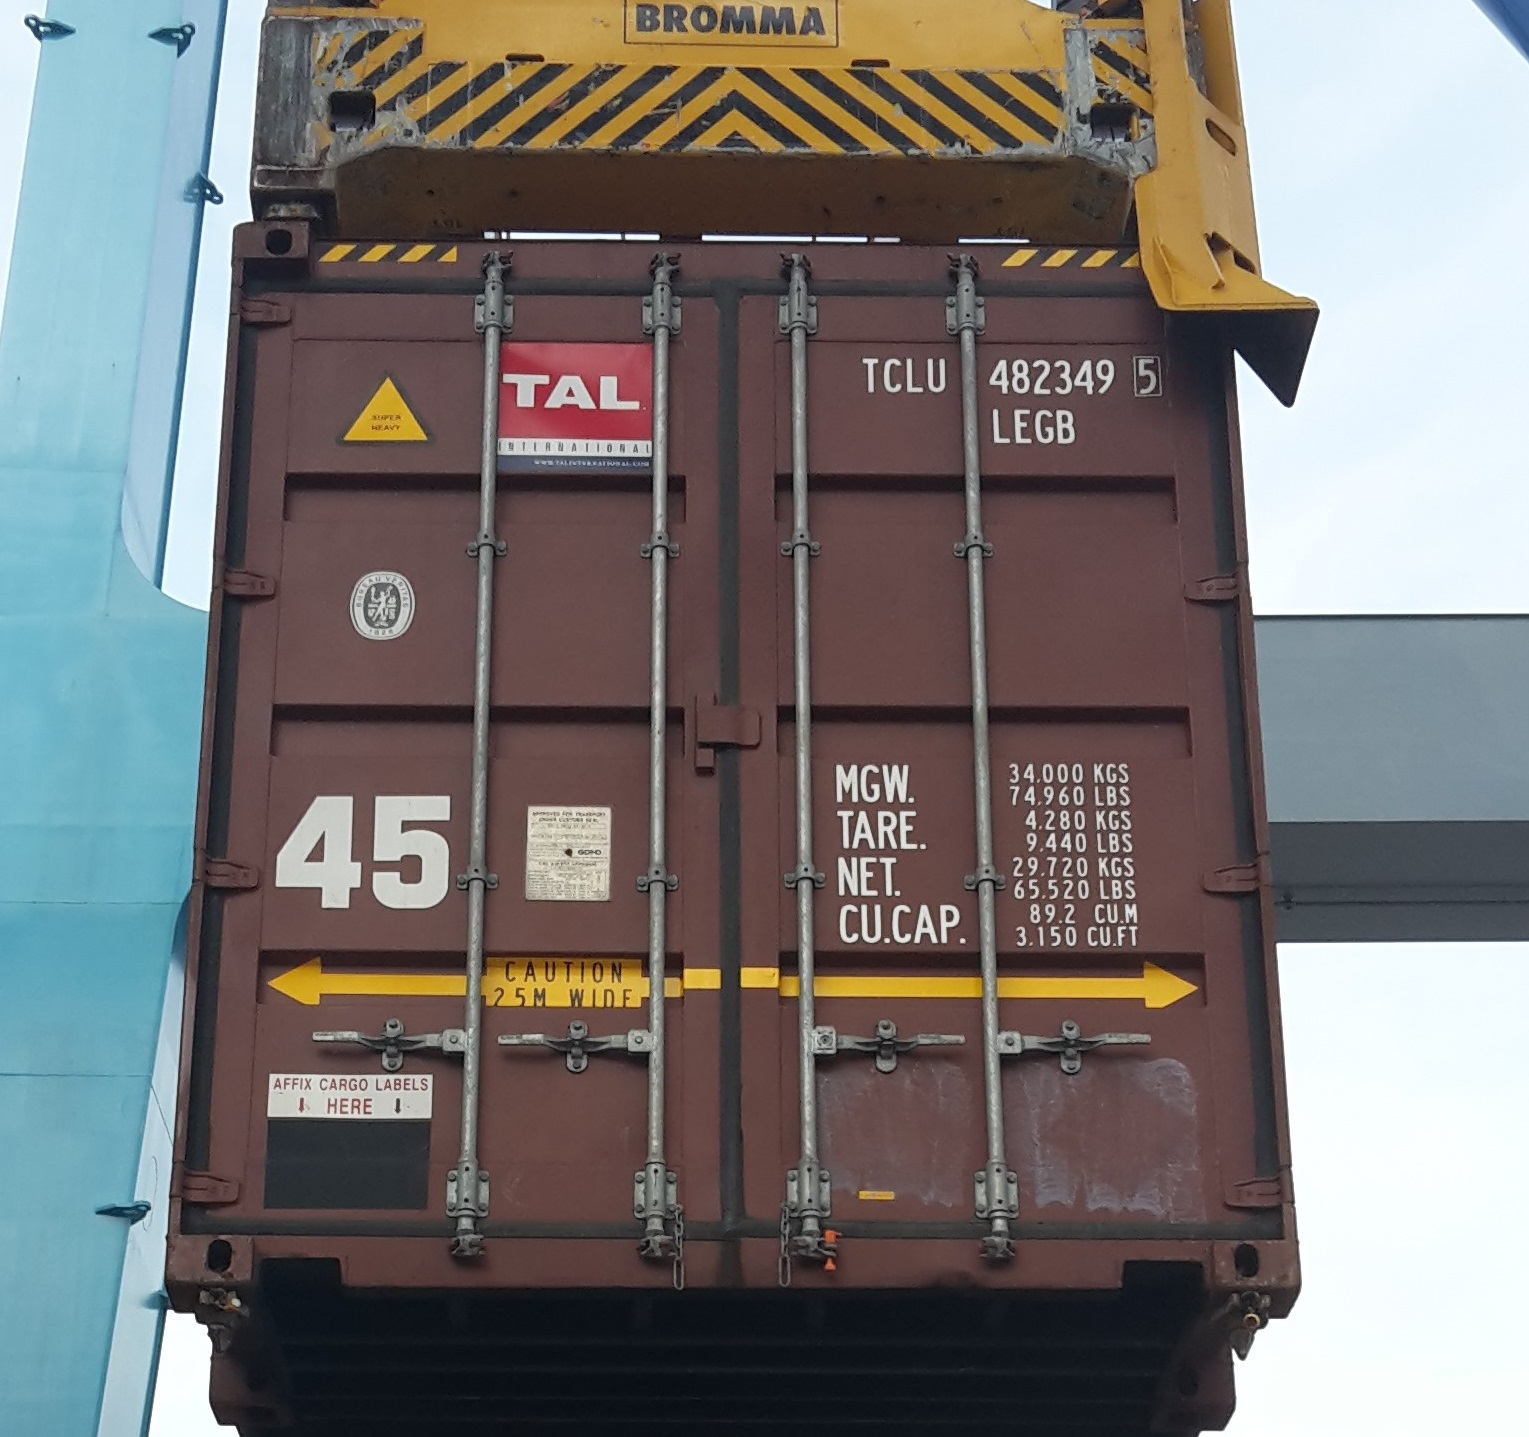container_door: (136, 227, 1312, 1297)
